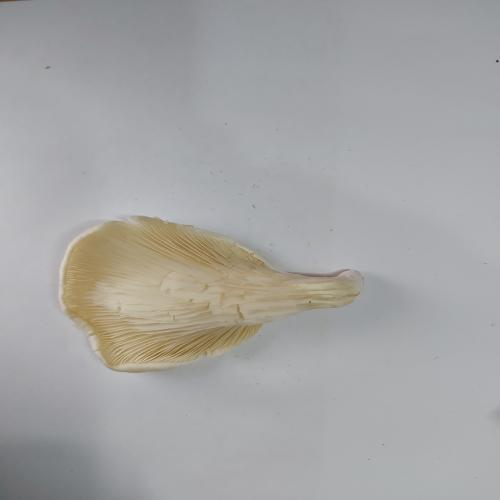Oyster Mushroom: (57, 214, 365, 373)
